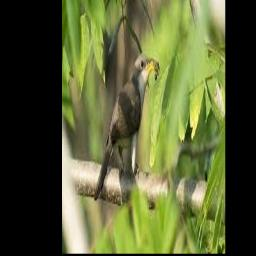Cuckoo: (94, 54, 158, 200)
